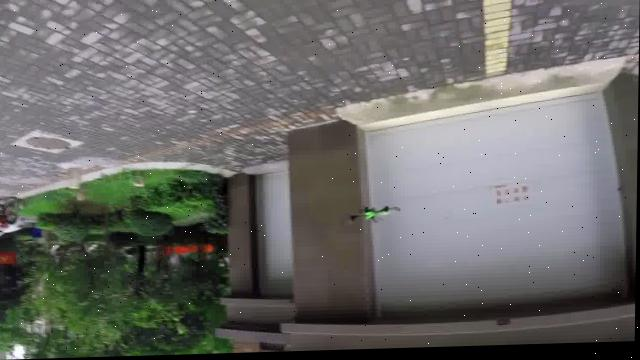drone: (344, 207, 404, 233)
